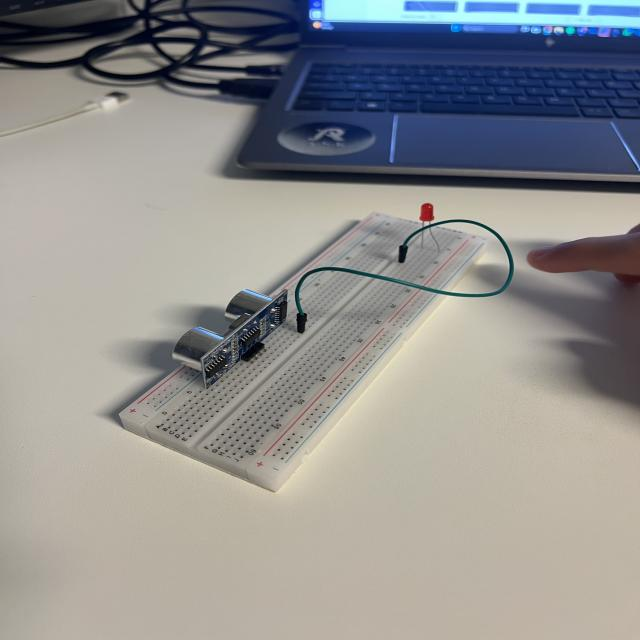BreadBoard: (123, 210, 495, 493)
REDLed: (416, 199, 448, 237)
UltrasoneSensor: (162, 286, 304, 387)
